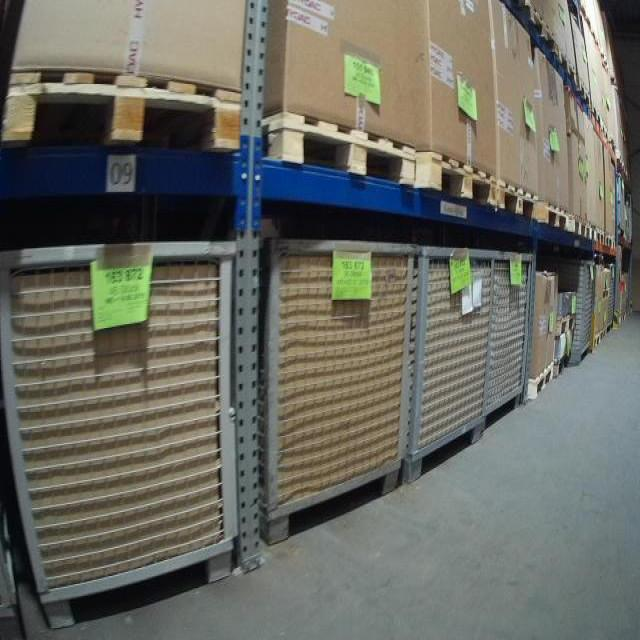pallet: (1, 67, 244, 155), (263, 109, 419, 191), (419, 149, 499, 211), (500, 176, 541, 227), (525, 357, 555, 406), (544, 198, 574, 237), (572, 215, 587, 239)
stillage: (1, 233, 247, 635), (254, 227, 421, 545), (399, 233, 494, 481), (481, 242, 537, 437), (545, 251, 594, 371), (608, 265, 619, 329), (627, 183, 635, 247), (616, 172, 623, 242)
